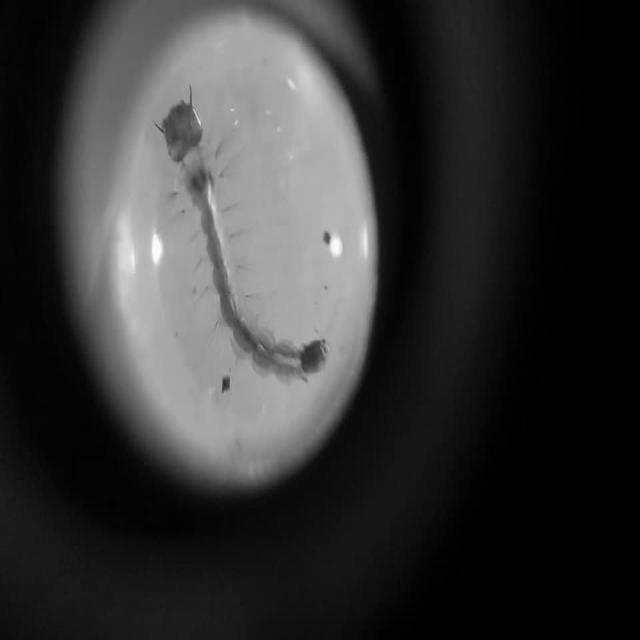larvas: (163, 102, 327, 375)
